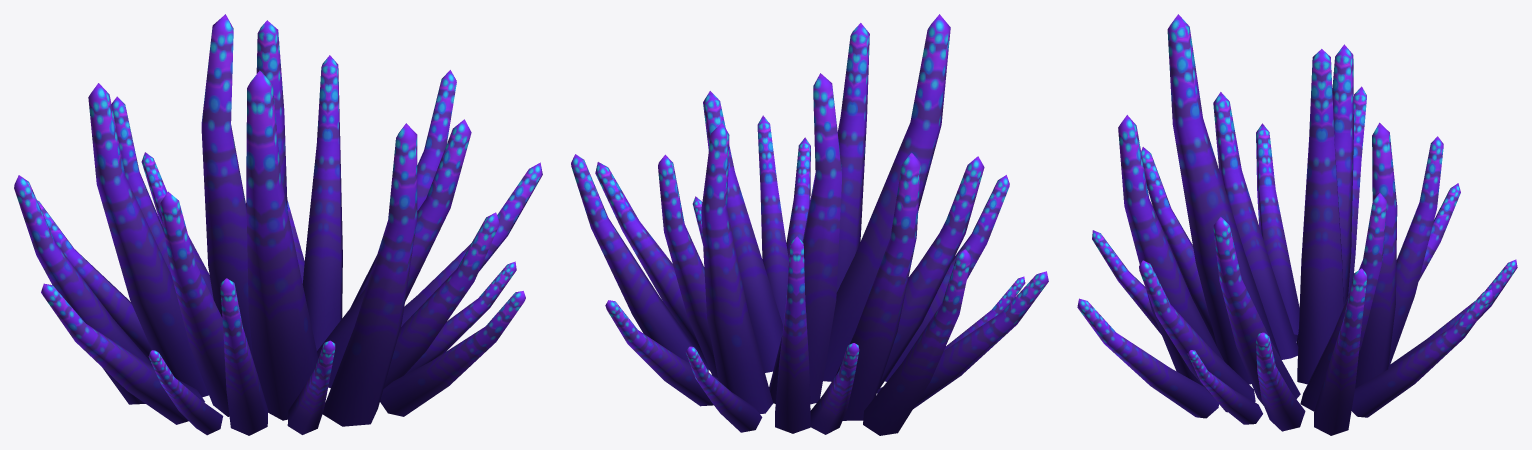
The model's file is Coral_09b.FBX.
3 renders of one model, left to right at view 1: azimuth 30°, elevation 25°; view 2: azimuth 150°, elevation 25°; view 3: azimuth 270°, elevation 25°, orthographic. The views are drawn at different scales.
Visible parts, largest first — view 1: Coral_09b; view 2: Coral_09b; view 3: Coral_09b.
Boxes of the visible parts, x1,y1,x2,y2 form: Coral_09b: (14,14,542,435); Coral_09b: (571,14,1048,435); Coral_09b: (1077,14,1517,435).
Size of the model in its own units: 66.92 by 50.32 by 59.15.
